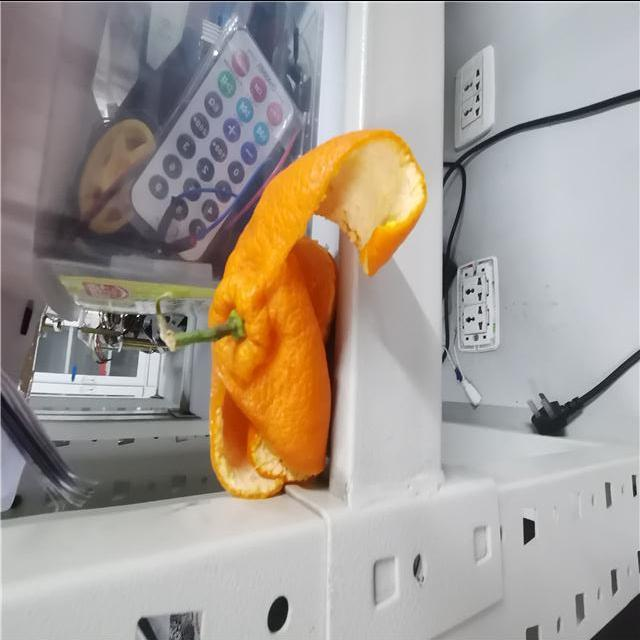orange peel: (169, 124, 441, 507)
